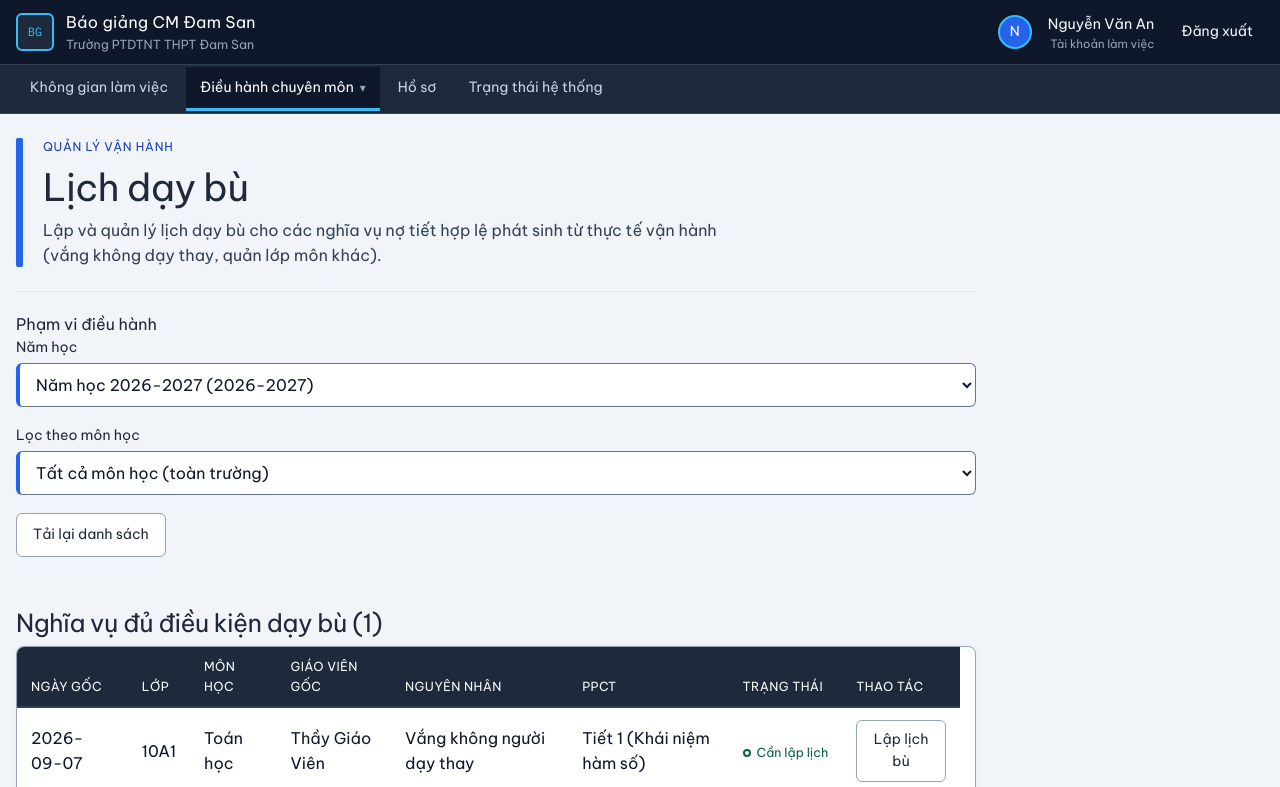
it: MakeupSchedulingPage › AR-04: Candidate/schedule decoupling and fail-closed reload › D4: candidates PASS -> schedules 503 => candidate PASS behavior remains deterministic and schedule error displayed separately
This screenshot has width=1280, height=787.
Note: Action remains possible on the verified candidate
Click the button "Lập lịch bù" at (901, 751), box [856,720,946,782]
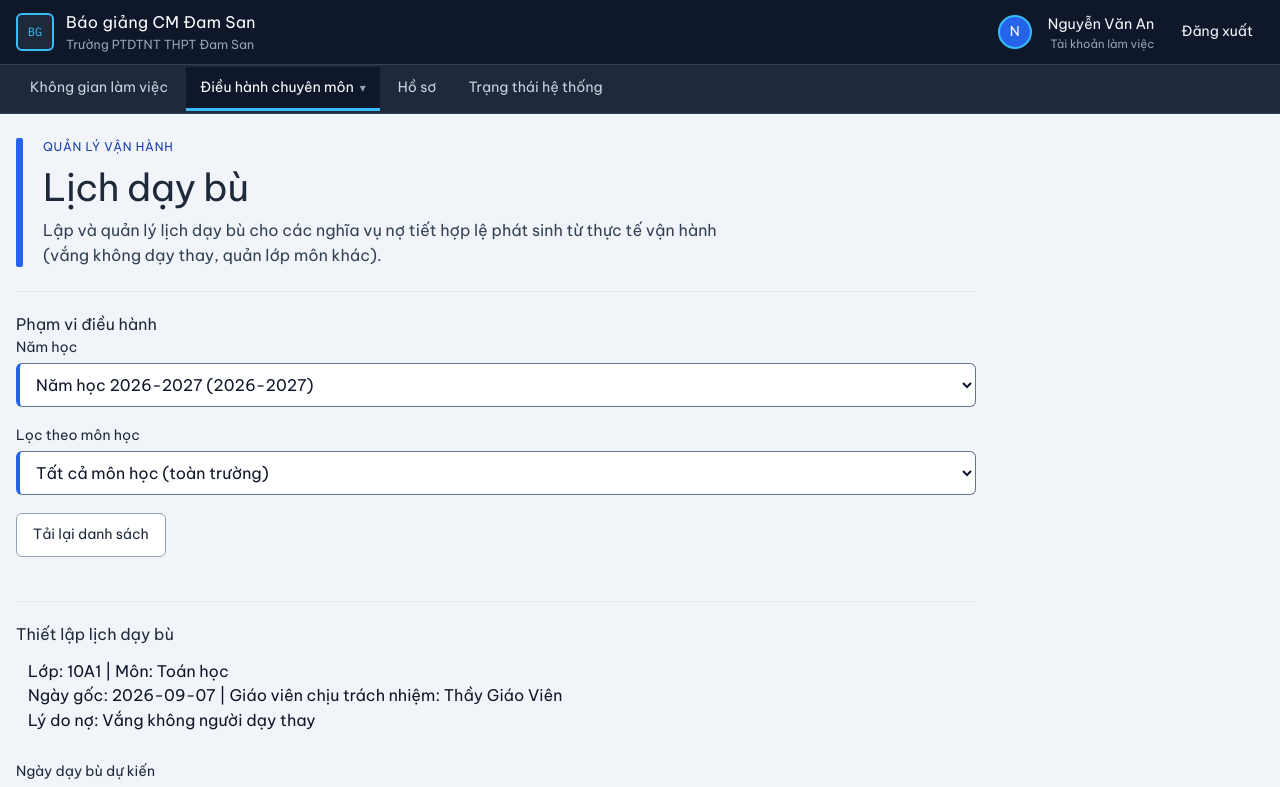
Check: the text "Thiết lập lịch dạy bù" is shown, box [16,624,174,644]
